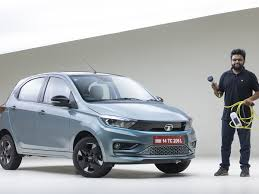Tiago: (4, 71, 197, 182)
